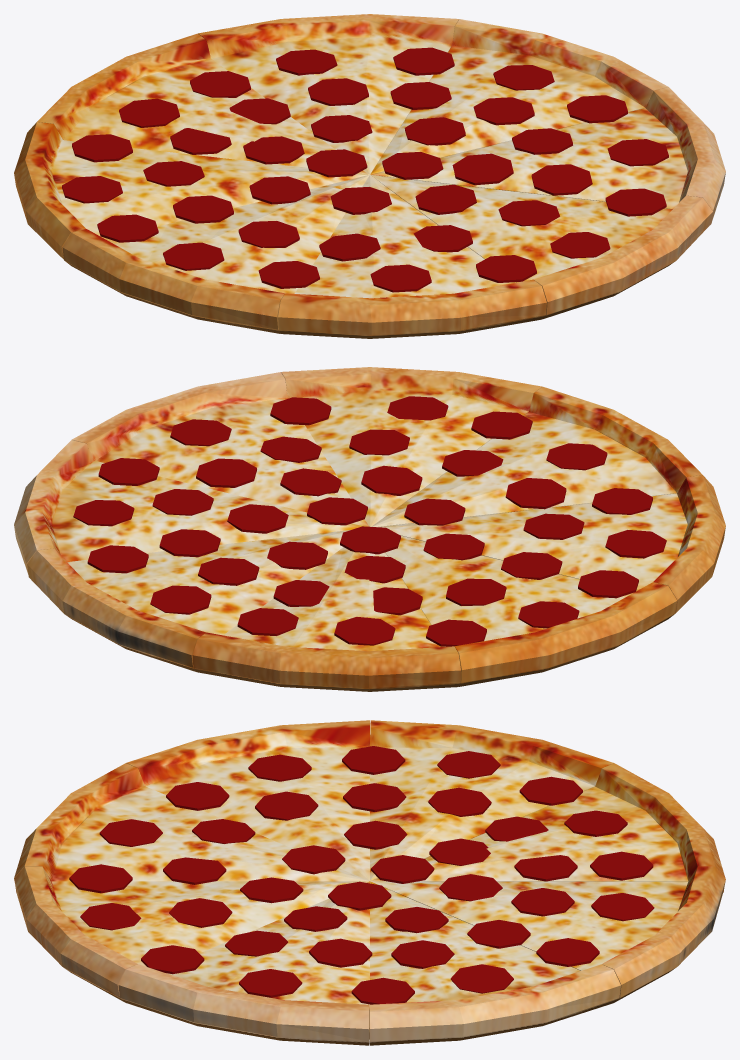
File: pizza.gltf
3 views of the same model, one above another, from view 1: azimuth 30°, elevation 25°; view 2: azimuth 150°, elevation 25°; view 3: azimuth 270°, elevation 25° (orthographic).
Visible parts, largest first — view 1: node-0; view 2: node-0; view 3: node-0.
Boxes of the visible parts, left/top/right/bottom form: node-0: left=14, top=14, right=725, bottom=338; node-0: left=14, top=367, right=725, bottom=691; node-0: left=14, top=720, right=725, bottom=1045.
Bounding box in the file's own units: 5.33 × 0.3048 × 5.33.
2 materials, 1 textured.
